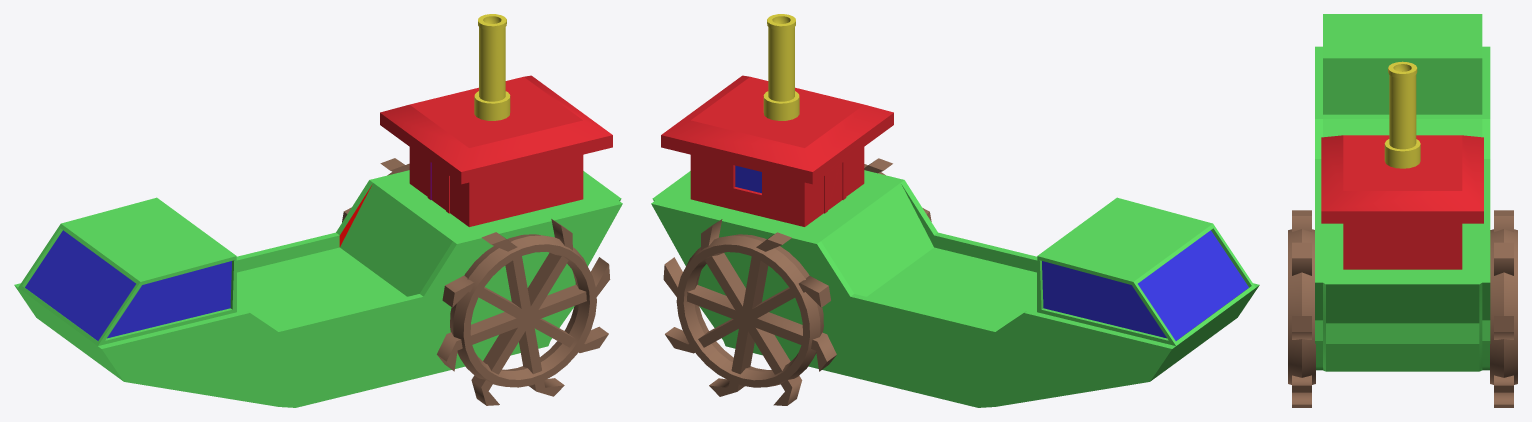
File: mainBoat.fbx
3 renders of one model, left to right at view 1: azimuth 30°, elevation 25°; view 2: azimuth 150°, elevation 25°; view 3: azimuth 270°, elevation 25°, orthographic.
Visible parts, largest first — view 1: boatBase, wheel1; view 2: boatBase, wheel2; view 3: boatBase, wheel2, wheel1.
Boxes of the visible parts, x1,y1,x2,y2 form: boatBase: (14,14,622,407); wheel1: (437,219,610,405); boatBase: (651,14,1259,407); wheel2: (663,219,836,405); boatBase: (1315,14,1490,371); wheel2: (1490,210,1517,407); wheel1: (1288,210,1315,407).
Size of the model in its own units: 30.7 by 18.86 by 11.65.
